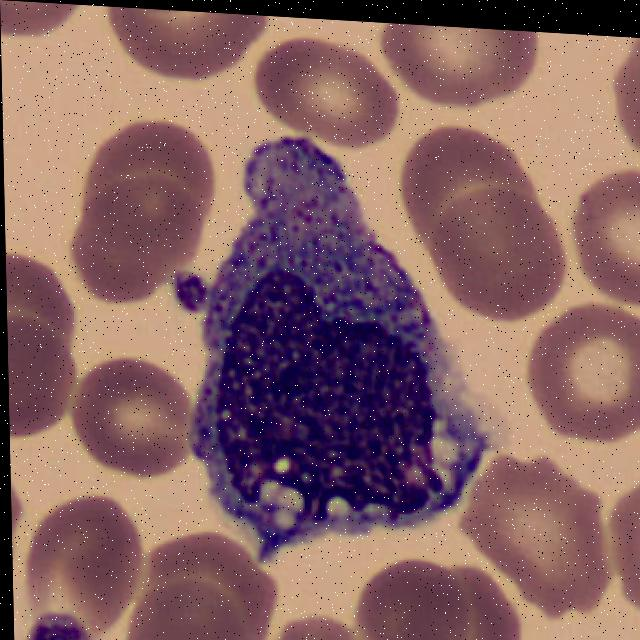monocyte: (205, 122, 513, 550)
platelets: (13, 599, 101, 640), (166, 265, 211, 317)
rbc: (467, 448, 619, 623), (61, 167, 214, 297), (429, 173, 568, 313), (71, 337, 200, 483), (404, 121, 546, 252), (28, 491, 152, 640), (140, 517, 282, 640), (243, 36, 395, 145), (87, 111, 216, 239), (527, 301, 640, 446), (383, 23, 549, 115), (91, 5, 265, 75), (559, 162, 640, 308), (7, 311, 81, 449), (363, 556, 474, 640), (6, 248, 82, 358), (130, 575, 249, 640), (447, 561, 528, 640), (609, 471, 640, 623), (0, 0, 88, 47), (608, 36, 640, 161), (274, 606, 371, 640)
